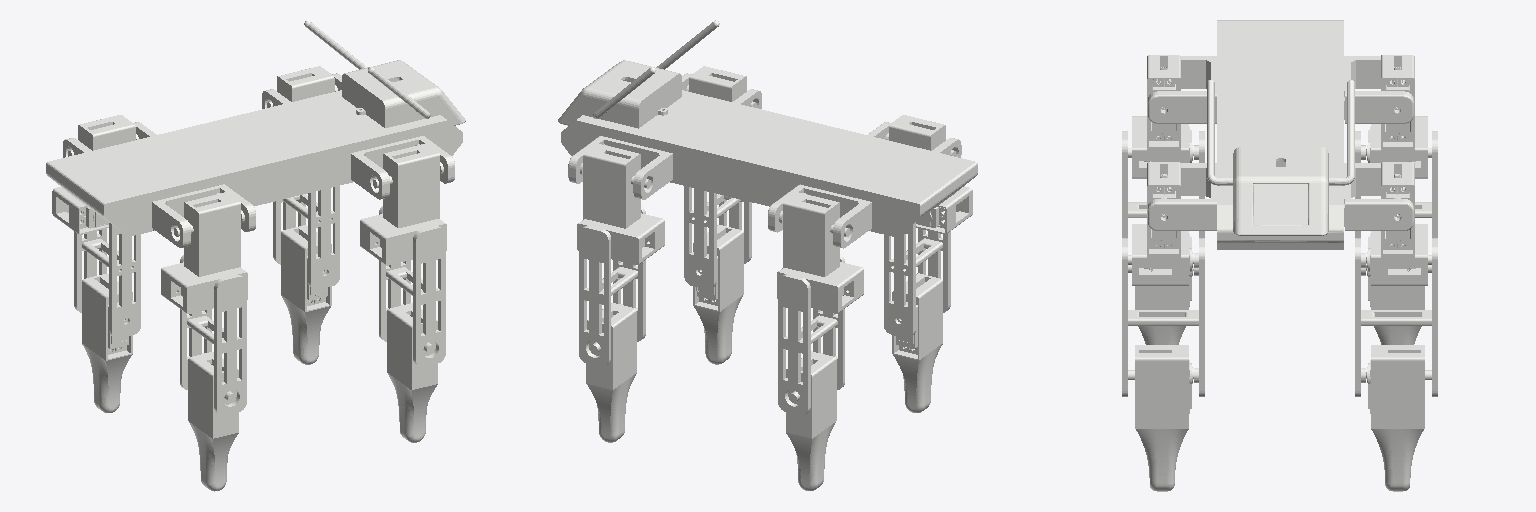
URDF robot description (quattro_zbd):
<?xml version="1.0" ?>
<!-- =================================================================================== -->
<!-- |    This document was autogenerated by xacro from /home/xerd_r/Desktop/quattro_zbd_description/urdf/quattro_zbd.xacro | -->
<!-- |    EDITING THIS FILE BY HAND IS NOT RECOMMENDED                                 | -->
<!-- =================================================================================== -->
<robot name="quattro_zbd">
  <material name="silver_default">
    <color rgba="0.700 0.700 0.700 1.000"/>
  </material>
  <material name="opaque246246243">
    <color rgba="0.9647058823529412 0.9647058823529412 0.9529411764705882 1.0"/>
  </material>
  <transmission name="FR1_tran">
    <type>transmission_interface/SimpleTransmission</type>
    <joint name="FR1">
      <hardwareInterface>hardware_interface/EffortJointInterface</hardwareInterface>
    </joint>
    <actuator name="FR1_actr">
      <hardwareInterface>hardware_interface/EffortJointInterface</hardwareInterface>
      <mechanicalReduction>1</mechanicalReduction>
    </actuator>
  </transmission>
  <transmission name="FR2_tran">
    <type>transmission_interface/SimpleTransmission</type>
    <joint name="FR2">
      <hardwareInterface>hardware_interface/EffortJointInterface</hardwareInterface>
    </joint>
    <actuator name="FR2_actr">
      <hardwareInterface>hardware_interface/EffortJointInterface</hardwareInterface>
      <mechanicalReduction>1</mechanicalReduction>
    </actuator>
  </transmission>
  <transmission name="FR3_tran">
    <type>transmission_interface/SimpleTransmission</type>
    <joint name="FR3">
      <hardwareInterface>hardware_interface/EffortJointInterface</hardwareInterface>
    </joint>
    <actuator name="FR3_actr">
      <hardwareInterface>hardware_interface/EffortJointInterface</hardwareInterface>
      <mechanicalReduction>1</mechanicalReduction>
    </actuator>
  </transmission>
  <transmission name="FL1_tran">
    <type>transmission_interface/SimpleTransmission</type>
    <joint name="FL1">
      <hardwareInterface>hardware_interface/EffortJointInterface</hardwareInterface>
    </joint>
    <actuator name="FL1_actr">
      <hardwareInterface>hardware_interface/EffortJointInterface</hardwareInterface>
      <mechanicalReduction>1</mechanicalReduction>
    </actuator>
  </transmission>
  <transmission name="FL2_tran">
    <type>transmission_interface/SimpleTransmission</type>
    <joint name="FL2">
      <hardwareInterface>hardware_interface/EffortJointInterface</hardwareInterface>
    </joint>
    <actuator name="FL2_actr">
      <hardwareInterface>hardware_interface/EffortJointInterface</hardwareInterface>
      <mechanicalReduction>1</mechanicalReduction>
    </actuator>
  </transmission>
  <transmission name="FL3_tran">
    <type>transmission_interface/SimpleTransmission</type>
    <joint name="FL3">
      <hardwareInterface>hardware_interface/EffortJointInterface</hardwareInterface>
    </joint>
    <actuator name="FL3_actr">
      <hardwareInterface>hardware_interface/EffortJointInterface</hardwareInterface>
      <mechanicalReduction>1</mechanicalReduction>
    </actuator>
  </transmission>
  <transmission name="RR1_tran">
    <type>transmission_interface/SimpleTransmission</type>
    <joint name="RR1">
      <hardwareInterface>hardware_interface/EffortJointInterface</hardwareInterface>
    </joint>
    <actuator name="RR1_actr">
      <hardwareInterface>hardware_interface/EffortJointInterface</hardwareInterface>
      <mechanicalReduction>1</mechanicalReduction>
    </actuator>
  </transmission>
  <transmission name="RR2_tran">
    <type>transmission_interface/SimpleTransmission</type>
    <joint name="RR2">
      <hardwareInterface>hardware_interface/EffortJointInterface</hardwareInterface>
    </joint>
    <actuator name="RR2_actr">
      <hardwareInterface>hardware_interface/EffortJointInterface</hardwareInterface>
      <mechanicalReduction>1</mechanicalReduction>
    </actuator>
  </transmission>
  <transmission name="RR3_tran">
    <type>transmission_interface/SimpleTransmission</type>
    <joint name="RR3">
      <hardwareInterface>hardware_interface/EffortJointInterface</hardwareInterface>
    </joint>
    <actuator name="RR3_actr">
      <hardwareInterface>hardware_interface/EffortJointInterface</hardwareInterface>
      <mechanicalReduction>1</mechanicalReduction>
    </actuator>
  </transmission>
  <transmission name="RL1_tran">
    <type>transmission_interface/SimpleTransmission</type>
    <joint name="RL1">
      <hardwareInterface>hardware_interface/EffortJointInterface</hardwareInterface>
    </joint>
    <actuator name="RL1_actr">
      <hardwareInterface>hardware_interface/EffortJointInterface</hardwareInterface>
      <mechanicalReduction>1</mechanicalReduction>
    </actuator>
  </transmission>
  <transmission name="RL2_tran">
    <type>transmission_interface/SimpleTransmission</type>
    <joint name="RL2">
      <hardwareInterface>hardware_interface/EffortJointInterface</hardwareInterface>
    </joint>
    <actuator name="RL2_actr">
      <hardwareInterface>hardware_interface/EffortJointInterface</hardwareInterface>
      <mechanicalReduction>1</mechanicalReduction>
    </actuator>
  </transmission>
  <transmission name="RL3_tran">
    <type>transmission_interface/SimpleTransmission</type>
    <joint name="RL3">
      <hardwareInterface>hardware_interface/EffortJointInterface</hardwareInterface>
    </joint>
    <actuator name="RL3_actr">
      <hardwareInterface>hardware_interface/EffortJointInterface</hardwareInterface>
      <mechanicalReduction>1</mechanicalReduction>
    </actuator>
  </transmission>
  <link name="base_link">
    <inertial>
      <origin rpy="0 0 0" xyz="-0.0101292256587403 0.0109209617568315 0.263594717311144"/>
      <mass value="0.750"/>
      <inertia ixx="0.00186100162732276" ixy="1.73460810145019e-07" ixz="-0.000275306477763566" iyy="0.00863148954080088" iyz="3.88007291270665e-07" izz="0.010081263978012"/>
    </inertial>
    <visual>
      <origin rpy="0 0 0" xyz="0 0 0"/>
      <geometry>
        <mesh filename="meshes/base_link.stl" scale="0.001 0.001 0.001"/>
      </geometry>
      <material name="opaque246246243"/>
    </visual>
    <collision>
      <origin rpy="0 0 0" xyz="0 0 0"/>
      <geometry>
        <mesh filename="meshes/base_link.stl" scale="0.001 0.001 0.001"/>
      </geometry>
    </collision>
  </link>
  <link name="Front_Right_Shin_1">
    <inertial>
      <origin rpy="0 0 0" xyz="-5.884310474574272e-07 -0.028787275079710954 -0.02913111880440336"/>
      <mass value="0.130"/>
      <inertia ixx="0.000135061356967570" ixy="8.94778254992024e-11" ixz="-1.5957801610479e-10" iyy="0.000126120525251135" iyz="-2.52163658600594e-07" izz="2.260842287263401e-05"/>
    </inertial>
    <visual>
      <origin rpy="0 0 0" xyz="-0.077874 0.05375 -0.102513"/>
      <geometry>
        <mesh filename="meshes/Front_Right_Shin_1.stl" scale="0.001 0.001 0.001"/>
      </geometry>
      <material name="opaque246246243"/>
    </visual>
    <collision>
      <origin rpy="0 0 0" xyz="-0.077874 0.05375 -0.102513"/>
      <geometry>
        <mesh filename="meshes/Front_Right_Shin_1.stl" scale="0.001 0.001 0.001"/>
      </geometry>
    </collision>
  </link>
  <link name="Front_Right_Thigh_1">
    <inertial>
      <origin rpy="0 0 0" xyz="-4.2213070691743404e-07 -0.02724773574981986 -0.04788423680961848"/>
      <mass value="0.0387383509477058"/>
      <inertia ixx="8.4469573005052e-05" ixy="-6.995473379170156e-11" ixz="-8.277874588048795e-12" iyy="5.51174377223652e-05" iyz="2.29800517184388e-06" izz="3.49744783579912e-05"/>
    </inertial>
    <visual>
      <origin rpy="0 0 0" xyz="-0.077874 0.05375 -0.202513"/>
      <geometry>
        <mesh filename="meshes/Front_Right_Thigh_1.stl" scale="0.001 0.001 0.001"/>
      </geometry>
      <material name="opaque246246243"/>
    </visual>
    <collision>
      <origin rpy="0 0 0" xyz="-0.077874 0.05375 -0.202513"/>
      <geometry>
        <mesh filename="meshes/Front_Right_Thigh_1.stl" scale="0.001 0.001 0.001"/>
      </geometry>
    </collision>
  </link>
  <link name="Front_Right_Hip_1">
    <inertial>
      <origin rpy="0 0 0" xyz="0.0321624315317298 -0.001207652816047386 -0.032308662166674995"/>
      <mass value="0.180"/>
      <inertia ixx="0.000145014950605466" ixy="-5.65518566799541e-07" ixz="-1.71540420578902e-05" iyy="0.000167305999892926" iyz="-4.79748471069211e-06" izz="6.58614522037687e-05"/>
    </inertial>
    <visual>
      <origin rpy="0 0 0" xyz="-0.040724 0.0811 -0.256886"/>
      <geometry>
        <mesh filename="meshes/Front_Right_Hip_1.stl" scale="0.001 0.001 0.001"/>
      </geometry>
      <material name="opaque246246243"/>
    </visual>
    <collision>
      <origin rpy="0 0 0" xyz="-0.040724 0.0811 -0.256886"/>
      <geometry>
        <mesh filename="meshes/Front_Right_Hip_1.stl" scale="0.001 0.001 0.001"/>
      </geometry>
    </collision>
  </link>
  <link name="Front_Left_Shin_1">
    <inertial>
      <origin rpy="0 0 0" xyz="-4.159600766606708e-08 0.028787510235234792 -0.02913090784482493"/>
      <mass value="0.130"/>
      <inertia ixx="0.000135061356967570" ixy="8.94778254992024e-11" ixz="-1.5957801610479e-10" iyy="0.000126120525251135" iyz="-2.52163658600594e-07" izz="2.260842287263401e-05"/>
    </inertial>
    <visual>
      <origin rpy="0 0 0" xyz="-0.077874 -0.074051 -0.102522"/>
      <geometry>
        <mesh filename="meshes/Front_Left_Shin_1.stl" scale="0.001 0.001 0.001"/>
      </geometry>
      <material name="opaque246246243"/>
    </visual>
    <collision>
      <origin rpy="0 0 0" xyz="-0.077874 -0.074051 -0.102522"/>
      <geometry>
        <mesh filename="meshes/Front_Left_Shin_1.stl" scale="0.001 0.001 0.001"/>
      </geometry>
    </collision>
  </link>
  <link name="Front_Left_Thigh_1">
    <inertial>
      <origin rpy="0 0 0" xyz="-4.966275097689765e-07 0.02724801736349132 -0.04788384140685442"/>
      <mass value="0.0387383509477126"/>
      <inertia ixx="8.44695921667588e-05" ixy="2.12246652328205e-10" ixz="2.857565930842326e-11" iyy="5.51174568851611e-05" iyz="-2.29813837737442e-06" izz="3.49744783592683e-05"/>
    </inertial>
    <visual>
      <origin rpy="0 0 0" xyz="-0.077874 -0.074051 -0.202522"/>
      <geometry>
        <mesh filename="meshes/Front_Left_Thigh_1.stl" scale="0.001 0.001 0.001"/>
      </geometry>
      <material name="opaque246246243"/>
    </visual>
    <collision>
      <origin rpy="0 0 0" xyz="-0.077874 -0.074051 -0.202522"/>
      <geometry>
        <mesh filename="meshes/Front_Left_Thigh_1.stl" scale="0.001 0.001 0.001"/>
      </geometry>
    </collision>
  </link>
  <link name="Front_Left_Hip_1">
    <inertial>
      <origin rpy="0 0 0" xyz="0.03230499771012333 0.0004215466246556554 -0.03213072869232336"/>
      <mass value="0.180"/>
      <inertia ixx="0.000145014950605466" ixy="-5.65518566799541e-07" ixz="-1.71540420578902e-05" iyy="0.000167305999892926" iyz="-4.79748471069211e-06" izz="6.58614522037687e-05"/>
    </inertial>
    <visual>
      <origin rpy="0 0 0" xyz="-0.040724 -0.1029 -0.256895"/>
      <geometry>
        <mesh filename="meshes/Front_Left_Hip_1.stl" scale="0.001 0.001 0.001"/>
      </geometry>
      <material name="opaque246246243"/>
    </visual>
    <collision>
      <origin rpy="0 0 0" xyz="-0.040724 -0.1029 -0.256895"/>
      <geometry>
        <mesh filename="meshes/Front_Left_Hip_1.stl" scale="0.001 0.001 0.001"/>
      </geometry>
    </collision>
  </link>
  <link name="Rear_Right_Shin_1">
    <inertial>
      <origin rpy="0 0 0" xyz="-5.644463717396908e-07 -0.028787275079710954 -0.029131118804403375"/>
      <mass value="0.130"/>
      <inertia ixx="0.000135061356967570" ixy="8.94778254992024e-11" ixz="-1.5957801610479e-10" iyy="0.000126120525251135" iyz="-2.52163658600594e-07" izz="2.260842287263401e-05"/>
    </inertial>
    <visual>
      <origin rpy="0 0 0" xyz="0.122126 0.05375 -0.102513"/>
      <geometry>
        <mesh filename="meshes/Rear_Right_Shin_1.stl" scale="0.001 0.001 0.001"/>
      </geometry>
      <material name="opaque246246243"/>
    </visual>
    <collision>
      <origin rpy="0 0 0" xyz="0.122126 0.05375 -0.102513"/>
      <geometry>
        <mesh filename="meshes/Rear_Right_Shin_1.stl" scale="0.001 0.001 0.001"/>
      </geometry>
    </collision>
  </link>
  <link name="Rear_Right_Thigh_1">
    <inertial>
      <origin rpy="0 0 0" xyz="-4.221307089991022e-07 -0.027247735749819847 -0.04788423680961851"/>
      <mass value="0.0387383509477058"/>
      <inertia ixx="8.44695730050529e-05" ixy="-6.995472717806830e-11" ixz="-8.277887164793996e-12" iyy="5.51174377223622e-05" iyz="2.29800517184399e-06" izz="3.49744783579879e-05"/>
    </inertial>
    <visual>
      <origin rpy="0 0 0" xyz="0.122126 0.05375 -0.202513"/>
      <geometry>
        <mesh filename="meshes/Rear_Right_Thigh_1.stl" scale="0.001 0.001 0.001"/>
      </geometry>
      <material name="opaque246246243"/>
    </visual>
    <collision>
      <origin rpy="0 0 0" xyz="0.122126 0.05375 -0.202513"/>
      <geometry>
        <mesh filename="meshes/Rear_Right_Thigh_1.stl" scale="0.001 0.001 0.001"/>
      </geometry>
    </collision>
  </link>
  <link name="Rear_Right_Hip_1">
    <inertial>
      <origin rpy="0 0 0" xyz="0.03216237669753522 -0.001207652783315541 -0.032308661290988555"/>
      <mass value="0.180"/>
      <inertia ixx="0.000145014950605466" ixy="-5.65518566799541e-07" ixz="-1.71540420578902e-05" iyy="0.000167305999892926" iyz="-4.79748471069211e-06" izz="6.58614522037687e-05"/>
    </inertial>
    <visual>
      <origin rpy="0 0 0" xyz="0.159276 0.0811 -0.256886"/>
      <geometry>
        <mesh filename="meshes/Rear_Right_Hip_1.stl" scale="0.001 0.001 0.001"/>
      </geometry>
      <material name="opaque246246243"/>
    </visual>
    <collision>
      <origin rpy="0 0 0" xyz="0.159276 0.0811 -0.256886"/>
      <geometry>
        <mesh filename="meshes/Rear_Right_Hip_1.stl" scale="0.001 0.001 0.001"/>
      </geometry>
    </collision>
  </link>
  <link name="Rear_Left_Shin_1">
    <inertial>
      <origin rpy="0 0 0" xyz="-1.7605813820709137e-08 0.02878751023523478 -0.029130907844824916"/>
      <mass value="0.130"/>
      <inertia ixx="0.000135061356967570" ixy="8.94778254992024e-11" ixz="-1.5957801610479e-10" iyy="0.000126120525251135" iyz="-2.52163658600594e-07" izz="2.260842287263401e-05"/>
    </inertial>
    <visual>
      <origin rpy="0 0 0" xyz="0.122126 -0.074051 -0.102522"/>
      <geometry>
        <mesh filename="meshes/Rear_Left_Shin_1.stl" scale="0.001 0.001 0.001"/>
      </geometry>
      <material name="opaque246246243"/>
    </visual>
    <collision>
      <origin rpy="0 0 0" xyz="0.122126 -0.074051 -0.102522"/>
      <geometry>
        <mesh filename="meshes/Rear_Left_Shin_1.stl" scale="0.001 0.001 0.001"/>
      </geometry>
    </collision>
  </link>
  <link name="Rear_Left_Thigh_1">
    <inertial>
      <origin rpy="0 0 0" xyz="-4.966275282125565e-07 0.02724801736349132 -0.047883841406854394"/>
      <mass value="0.0387383509477126"/>
      <inertia ixx="8.44695921667585e-05" ixy="2.12246579849289e-10" ixz="2.857554915348254e-11" iyy="5.51174568851293e-05" iyz="-2.2981383773742e-06" izz="3.49744783592365e-05"/>
    </inertial>
    <visual>
      <origin rpy="0 0 0" xyz="0.122126 -0.074051 -0.202522"/>
      <geometry>
        <mesh filename="meshes/Rear_Left_Thigh_1.stl" scale="0.001 0.001 0.001"/>
      </geometry>
      <material name="opaque246246243"/>
    </visual>
    <collision>
      <origin rpy="0 0 0" xyz="0.122126 -0.074051 -0.202522"/>
      <geometry>
        <mesh filename="meshes/Rear_Left_Thigh_1.stl" scale="0.001 0.001 0.001"/>
      </geometry>
    </collision>
  </link>
  <link name="Rear_Left_Hip_1">
    <inertial>
      <origin rpy="0 0 0" xyz="0.03230494967695921 0.00042154661560232787 -0.0321307280022185"/>
      <mass value="0.180"/>
      <inertia ixx="0.000145014950605466" ixy="-5.65518566799541e-07" ixz="-1.71540420578902e-05" iyy="0.000167305999892926" iyz="-4.79748471069211e-06" izz="6.58614522037687e-05"/>
    </inertial>
    <visual>
      <origin rpy="0 0 0" xyz="0.159276 -0.1029 -0.256895"/>
      <geometry>
        <mesh filename="meshes/Rear_Left_Hip_1.stl" scale="0.001 0.001 0.001"/>
      </geometry>
      <material name="opaque246246243"/>
    </visual>
    <collision>
      <origin rpy="0 0 0" xyz="0.159276 -0.1029 -0.256895"/>
      <geometry>
        <mesh filename="meshes/Rear_Left_Hip_1.stl" scale="0.001 0.001 0.001"/>
      </geometry>
    </collision>
  </link>
  <joint name="FR1" type="revolute">
    <origin rpy="0 0 0" xyz="0.0 0.0 -0.1"/>
    <parent link="Front_Right_Thigh_1"/>
    <child link="Front_Right_Shin_1"/>
    <axis xyz="-0.0 -1.0 -0.0"/>
    <limit effort="100" lower="-0.610865" upper="2.530727" velocity="100"/>
  </joint>
  <joint name="FR2" type="revolute">
    <origin rpy="0 0 0" xyz="0.03715 0.02735 -0.054373"/>
    <parent link="Front_Right_Hip_1"/>
    <child link="Front_Right_Thigh_1"/>
    <axis xyz="0.0 -1.0 -0.0"/>
    <limit effort="100" lower="-1.570796" upper="1.570796" velocity="100"/>
  </joint>
  <joint name="FR3" type="revolute">
    <origin rpy="0 0 0" xyz="0.040724 -0.0811 0.256886"/>
    <parent link="base_link"/>
    <child link="Front_Right_Hip_1"/>
    <axis xyz="1.0 -0.0 0.0"/>
    <limit effort="100" lower="-1.570796" upper="0.698132" velocity="100"/>
  </joint>
  <joint name="FL1" type="revolute">
    <origin rpy="0 0 0" xyz="0.0 0.0 -0.1"/>
    <parent link="Front_Left_Thigh_1"/>
    <child link="Front_Left_Shin_1"/>
    <axis xyz="-0.0 -1.0 0.0"/>
    <limit effort="100" lower="-0.610865" upper="2.530727" velocity="100"/>
  </joint>
  <joint name="FL2" type="revolute">
    <origin rpy="0 0 0" xyz="0.03715 -0.028849 -0.054373"/>
    <parent link="Front_Left_Hip_1"/>
    <child link="Front_Left_Thigh_1"/>
    <axis xyz="0.0 1.0 0.0"/>
    <limit effort="100" lower="-1.570796" upper="1.570796" velocity="100"/>
  </joint>
  <joint name="FL3" type="revolute">
    <origin rpy="0 0 0" xyz="0.040724 0.1029 0.256895"/>
    <parent link="base_link"/>
    <child link="Front_Left_Hip_1"/>
    <axis xyz="1.0 0.0 0.0"/>
    <limit effort="100" lower="-0.610865" upper="1.570796" velocity="100"/>
  </joint>
  <joint name="RR1" type="revolute">
    <origin rpy="0 0 0" xyz="0.0 0.0 -0.1"/>
    <parent link="Rear_Right_Thigh_1"/>
    <child link="Rear_Right_Shin_1"/>
    <axis xyz="0.0 1.0 0.0"/>
    <limit effort="100" lower="-2.530727" upper="0.610865" velocity="100"/>
  </joint>
  <joint name="RR2" type="revolute">
    <origin rpy="0 0 0" xyz="0.03715 0.02735 -0.054373"/>
    <parent link="Rear_Right_Hip_1"/>
    <child link="Rear_Right_Thigh_1"/>
    <axis xyz="0.0 -1.0 -0.0"/>
    <limit effort="100" lower="-1.570796" upper="1.570796" velocity="100"/>
  </joint>
  <joint name="RR3" type="revolute">
    <origin rpy="0 0 0" xyz="-0.159276 -0.0811 0.256886"/>
    <parent link="base_link"/>
    <child link="Rear_Right_Hip_1"/>
    <axis xyz="1.0 -0.0 0.0"/>
    <limit effort="100" lower="-1.570796" upper="0.698132" velocity="100"/>
  </joint>
  <joint name="RL1" type="revolute">
    <origin rpy="0 0 0" xyz="0.0 0.0 -0.1"/>
    <parent link="Rear_Left_Thigh_1"/>
    <child link="Rear_Left_Shin_1"/>
    <axis xyz="-0.0 -1.0 0.0"/>
    <limit effort="100" lower="-0.610865" upper="2.530727" velocity="100"/>
  </joint>
  <joint name="RL2" type="revolute">
    <origin rpy="0 0 0" xyz="0.03715 -0.028849 -0.054373"/>
    <parent link="Rear_Left_Hip_1"/>
    <child link="Rear_Left_Thigh_1"/>
    <axis xyz="0.0 1.0 0.0"/>
    <limit effort="100" lower="-1.570796" upper="1.570796" velocity="100"/>
  </joint>
  <joint name="RL3" type="revolute">
    <origin rpy="0 0 0" xyz="-0.159276 0.1029 0.256895"/>
    <parent link="base_link"/>
    <child link="Rear_Left_Hip_1"/>
    <axis xyz="1.0 0.0 0.0"/>
    <limit effort="100" lower="-0.698132" upper="1.570796" velocity="100"/>
  </joint>
</robot>

--- Render facts (derived) ---
The picture shows the robot from 3 angles, left to right: view 1: azimuth 30°, elevation 25°; view 2: azimuth 150°, elevation 25°; view 3: azimuth 270°, elevation 25°; orthographic projection.
Robot: quattro_zbd — 13 links, 12 joints (12 revolute); root link base_link; default pose: every joint at zero.
Visible links, largest first — view 1: base_link, Rear_Right_Hip_1, Front_Right_Hip_1, Front_Right_Thigh_1, Rear_Right_Thigh_1, Rear_Left_Thigh_1, Front_Right_Shin_1, Rear_Right_Shin_1, Front_Left_Shin_1, Rear_Left_Shin_1, Front_Left_Thigh_1, Rear_Left_Hip_1 (+1 smaller); view 2: base_link, Front_Left_Hip_1, Rear_Left_Hip_1, Rear_Left_Thigh_1, Front_Left_Thigh_1, Rear_Right_Thigh_1, Front_Left_Shin_1, Rear_Left_Shin_1, Rear_Right_Shin_1, Front_Right_Shin_1, Front_Right_Thigh_1, Rear_Right_Hip_1 (+1 smaller); view 3: base_link, Front_Right_Shin_1, Front_Left_Shin_1, Front_Right_Hip_1, Front_Left_Hip_1, Rear_Right_Hip_1, Rear_Left_Hip_1, Front_Right_Thigh_1, Front_Left_Thigh_1, Rear_Right_Shin_1, Rear_Left_Shin_1, Rear_Right_Thigh_1 (+1 smaller).
Link boxes in pixels (left/top/right/bottom): base_link: left=46, top=21, right=465, bottom=247; Rear_Right_Hip_1: left=161, top=192, right=247, bottom=313; Front_Right_Hip_1: left=360, top=143, right=446, bottom=265; Front_Right_Thigh_1: left=379, top=206, right=445, bottom=366; Rear_Right_Thigh_1: left=180, top=255, right=246, bottom=415; Rear_Left_Thigh_1: left=74, top=223, right=140, bottom=338; Front_Right_Shin_1: left=387, top=303, right=437, bottom=442; Rear_Right_Shin_1: left=188, top=352, right=238, bottom=491; Front_Left_Shin_1: left=281, top=225, right=331, bottom=364; Rear_Left_Shin_1: left=82, top=274, right=132, bottom=412; Front_Left_Thigh_1: left=273, top=186, right=339, bottom=289; Rear_Left_Hip_1: left=52, top=115, right=135, bottom=234; base_link: left=558, top=20, right=977, bottom=248; Front_Left_Hip_1: left=577, top=144, right=664, bottom=264; Rear_Left_Hip_1: left=777, top=192, right=863, bottom=313; Rear_Left_Thigh_1: left=778, top=254, right=844, bottom=415; Front_Left_Thigh_1: left=579, top=205, right=645, bottom=366; Rear_Right_Thigh_1: left=884, top=222, right=950, bottom=337; Front_Left_Shin_1: left=586, top=303, right=636, bottom=442; Rear_Left_Shin_1: left=786, top=351, right=836, bottom=490; Rear_Right_Shin_1: left=892, top=273, right=942, bottom=412; Front_Right_Shin_1: left=693, top=225, right=743, bottom=364; Front_Right_Thigh_1: left=684, top=186, right=751, bottom=289; Rear_Right_Hip_1: left=889, top=115, right=972, bottom=234; base_link: left=1148, top=20, right=1413, bottom=249; Front_Right_Shin_1: left=1128, top=345, right=1193, bottom=491; Front_Left_Shin_1: left=1366, top=345, right=1431, bottom=491; Front_Right_Hip_1: left=1132, top=162, right=1193, bottom=285; Front_Left_Hip_1: left=1366, top=162, right=1427, bottom=285; Rear_Right_Hip_1: left=1132, top=55, right=1193, bottom=178; Rear_Left_Hip_1: left=1366, top=55, right=1427, bottom=178; Front_Right_Thigh_1: left=1122, top=238, right=1204, bottom=396; Front_Left_Thigh_1: left=1355, top=238, right=1437, bottom=396; Rear_Right_Shin_1: left=1128, top=265, right=1193, bottom=344; Rear_Left_Shin_1: left=1366, top=265, right=1431, bottom=344; Rear_Right_Thigh_1: left=1122, top=131, right=1204, bottom=275.
Bounding box of the posed robot: 0.3736 × 0.2488 × 0.3475 m (x, y, z).
13 mesh visuals loaded from 13 distinct referenced files (13 binary STL).
